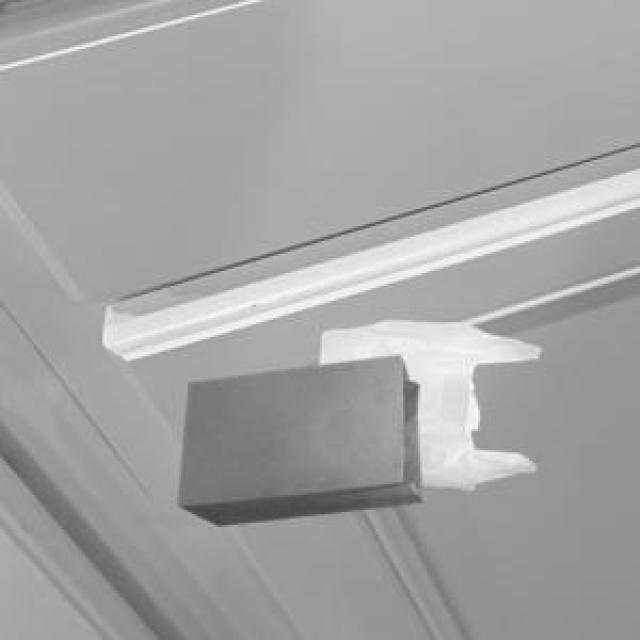paper: (175, 352, 418, 521)
